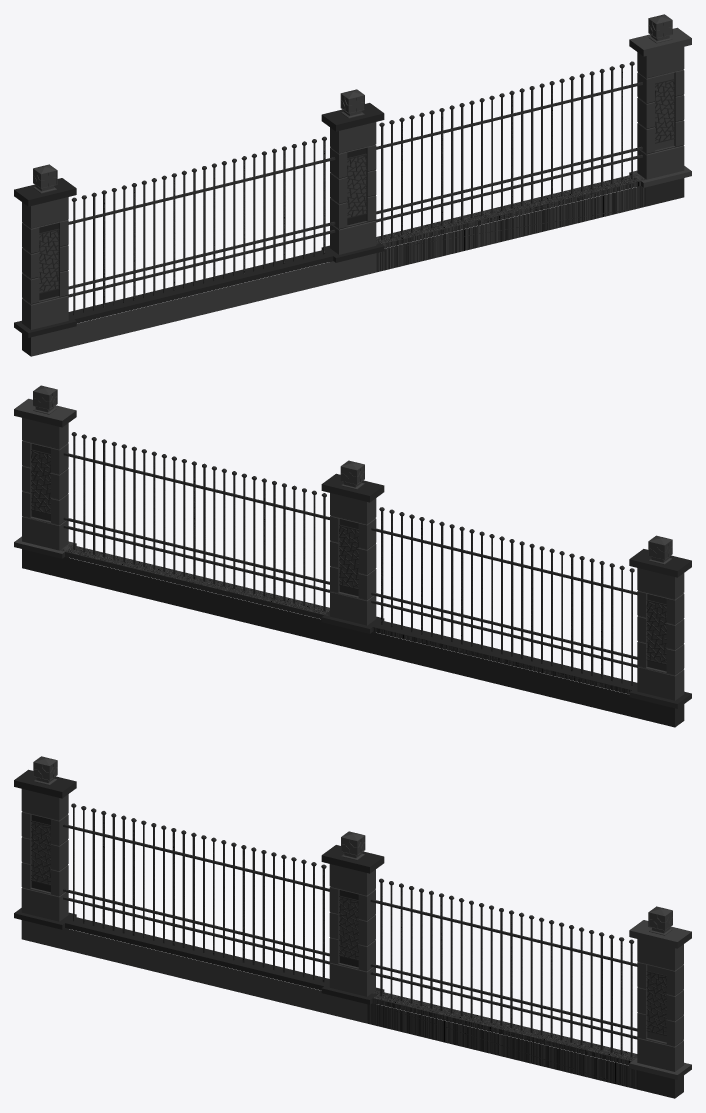
The picture shows the model from 3 angles, top to bottom: view 1: azimuth 30°, elevation 25°; view 2: azimuth 150°, elevation 25°; view 3: azimuth 330°, elevation 25°; orthographic projection.
Parts seen in each view (by area): view 1: 对象004; view 2: 对象004; view 3: 对象004.
Boxes of the visible parts, x1=… form: 对象004: x1=14, y1=14, x2=691, y2=356; 对象004: x1=14, y1=385, x2=691, y2=727; 对象004: x1=14, y1=756, x2=691, y2=1098.
Bounding box in the file's own units: 11.59 × 3.03 × 0.4363.
Materials: 1 (1 with a texture image).
